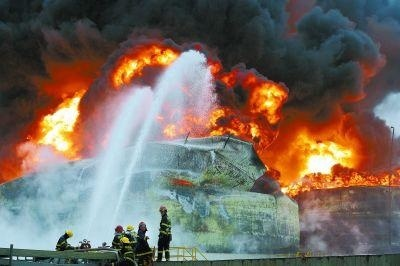fire: (161, 54, 282, 140), (33, 89, 87, 156), (110, 44, 174, 87)
